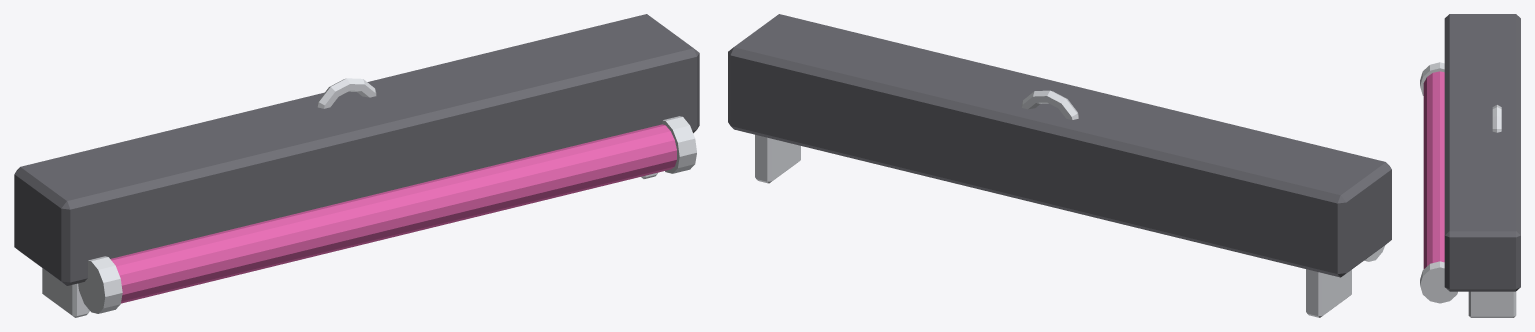
The model's file is nightclub-and-dj-booth-uv-bar-9812d548__34106.glb.
3 views of the same model, side by side, from view 1: azimuth 30°, elevation 25°; view 2: azimuth 150°, elevation 25°; view 3: azimuth 270°, elevation 25° (orthographic). The views are drawn at different scales.
Visible parts, largest first — view 1: uv-bar; view 2: uv-bar; view 3: uv-bar.
Part boxes in pixels (x1=…): uv-bar: x1=14, y1=14, x2=699, y2=317; uv-bar: x1=728, y1=14, x2=1391, y2=317; uv-bar: x1=1420, y1=14, x2=1520, y2=317.
Bounding box in the file's own units: 1.1 × 0.256 × 0.2119.
